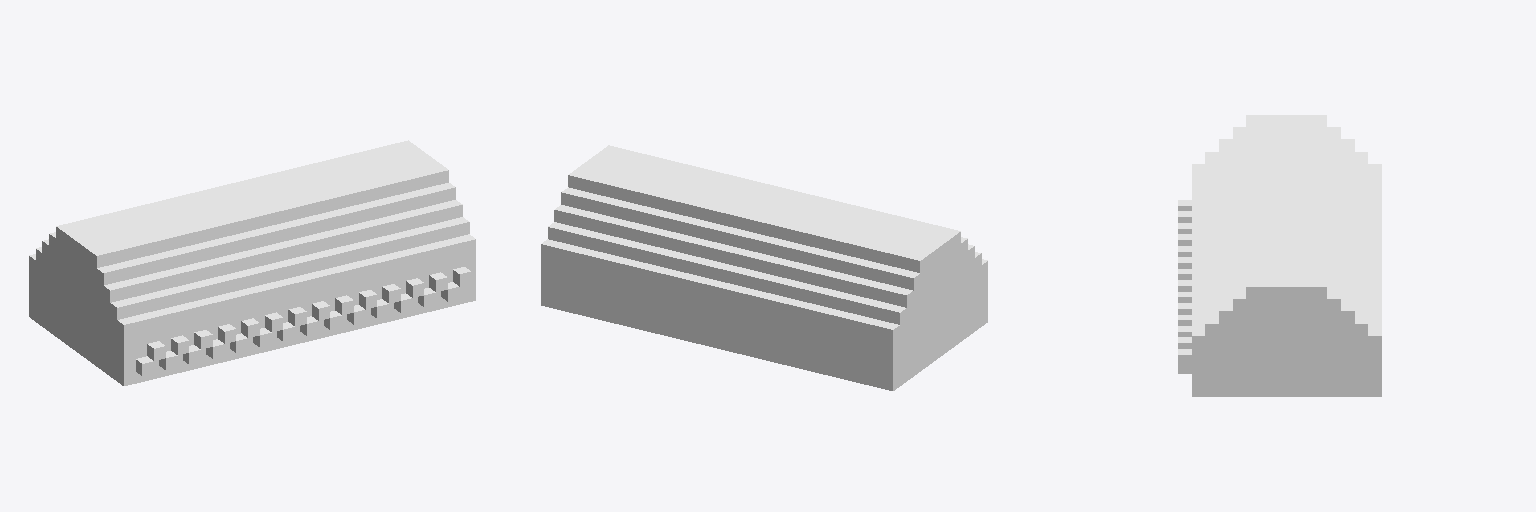
The model's file is ChestTop.obj.
3 renders of one model, left to right at view 1: azimuth 30°, elevation 25°; view 2: azimuth 150°, elevation 25°; view 3: azimuth 270°, elevation 25°, orthographic.
Visible parts, largest first — view 1: object 1; view 2: object 1; view 3: object 1.
Boxes of the visible parts, x1=… form: object 1: x1=29, y1=140, x2=475, y2=385; object 1: x1=541, y1=145, x2=987, y2=390; object 1: x1=1178, y1=115, x2=1381, y2=396.
Bounding box in the file's own units: 3 × 0.9 × 1.5.